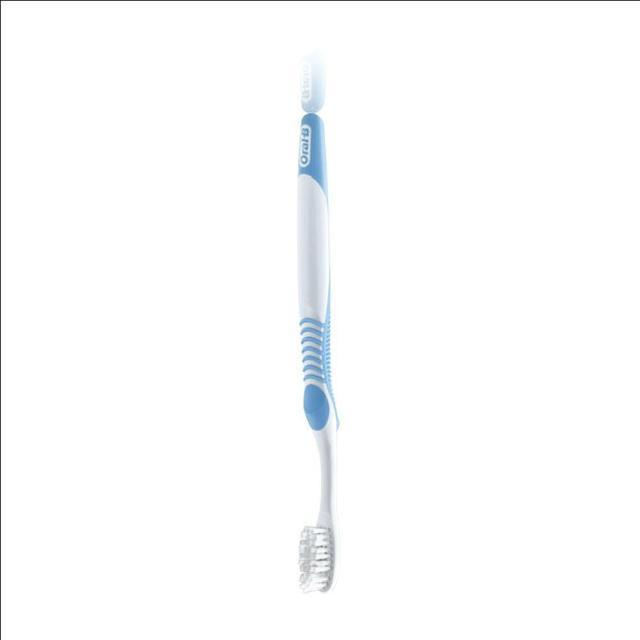toothbrush: (240, 79, 364, 619)
